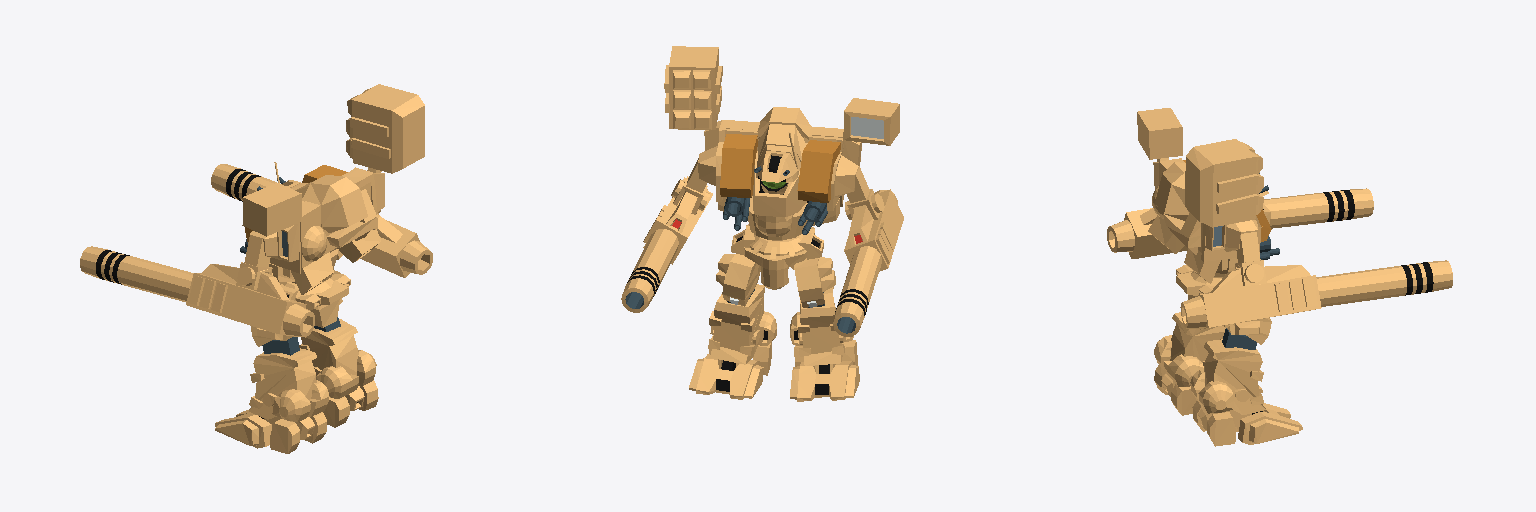
The picture shows the model from 3 angles: view 1: azimuth 30°, elevation 25°; view 2: azimuth 150°, elevation 25°; view 3: azimuth 270°, elevation 25°; orthographic projection.
Parts seen in each view (by area): view 1: group[number redacted], group[number redacted], group[number redacted], group[number redacted], group[number redacted], group[number redacted], group[number redacted], group[number redacted], group[number redacted], group[number redacted], group[number redacted], group[number redacted]; view 2: group[number redacted], group[number redacted], group[number redacted], group[number redacted], group[number redacted], group[number redacted], group[number redacted], group[number redacted], group[number redacted], group[number redacted], group[number redacted], group[number redacted] (+6 smaller); view 3: group[number redacted], group[number redacted], group[number redacted], group[number redacted], group[number redacted], group[number redacted], group[number redacted], group[number redacted], group[number redacted], group[number redacted], group[number redacted].
Part boxes in pixels (x1,y1,x2,y2): group[number redacted]: (80,235,314,337); group[number redacted]: (215,326,329,453); group[number redacted]: (346,84,424,173); group[number redacted]: (299,298,378,427); group[number redacted]: (211,164,432,277); group[number redacted]: (291,169,380,294); group[number redacted]: (302,175,367,232); group[number redacted]: (242,183,301,236); group[number redacted]: (279,270,350,327); group[number redacted]: (327,189,377,247); group[number redacted]: (277,223,298,261); group[number redacted]: (302,226,326,261); group[number redacted]: (689,254,776,399); group[number redacted]: (790,257,859,401); group[number redacted]: (833,166,903,336); group[number redacted]: (621,158,712,312); group[number redacted]: (664,46,722,129); group[number redacted]: (731,224,823,289); group[number redacted]: (843,98,899,145); group[number redacted]: (720,134,757,197); group[number redacted]: (797,140,840,202); group[number redacted]: (753,151,806,216); group[number redacted]: (758,124,807,161); group[number redacted]: (757,107,810,139); group[number redacted]: (1180,232,1452,329); group[number redacted]: (1190,318,1302,446); group[number redacted]: (1185,139,1263,227); group[number redacted]: (1107,188,1373,258); group[number redacted]: (1154,312,1262,415); group[number redacted]: (1137,108,1182,159); group[number redacted]: (1148,159,1220,283); group[number redacted]: (1155,162,1189,220); group[number redacted]: (1163,213,1200,247); group[number redacted]: (1176,265,1221,299); group[number redacted]: (1224,220,1257,251).
Bounding box in the file's own units: 1.54 × 1.69 × 1.72.